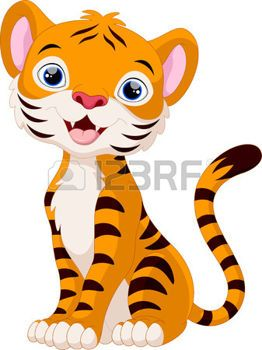Tigrew: (4, 4, 259, 341)
